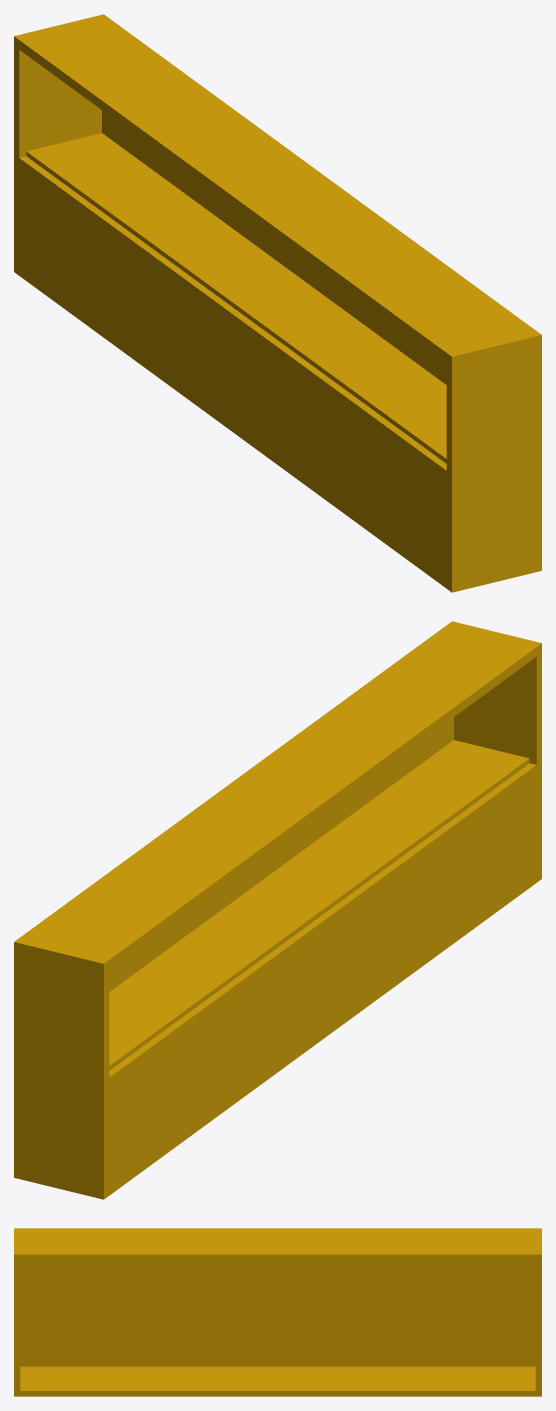
Rendered from luxury_shelf.glb.
3 views of the same model, one above another, from view 1: azimuth 30°, elevation 25°; view 2: azimuth 150°, elevation 25°; view 3: azimuth 270°, elevation 25° (orthographic). The views are drawn at different scales.
Size of the model in its own units: 0.0195 by 0.049 by 0.165.
